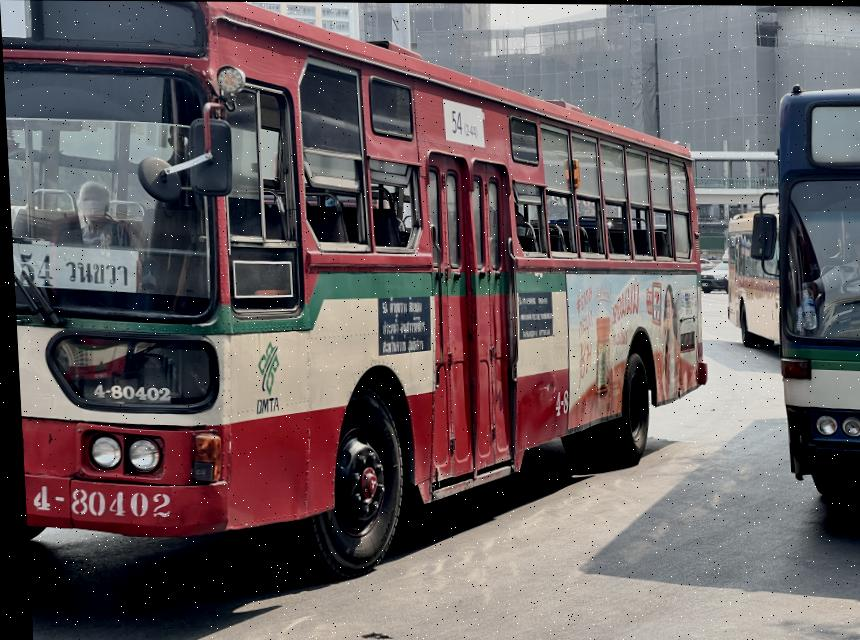BMTA-bus: (1, 0, 705, 579), (775, 84, 860, 530)
Bus Side Number: (19, 474, 171, 531)
Destination Sign: (12, 241, 141, 296)
